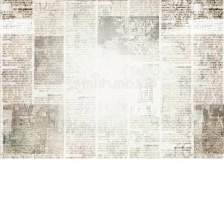news_paper: (0, 0, 224, 160)
